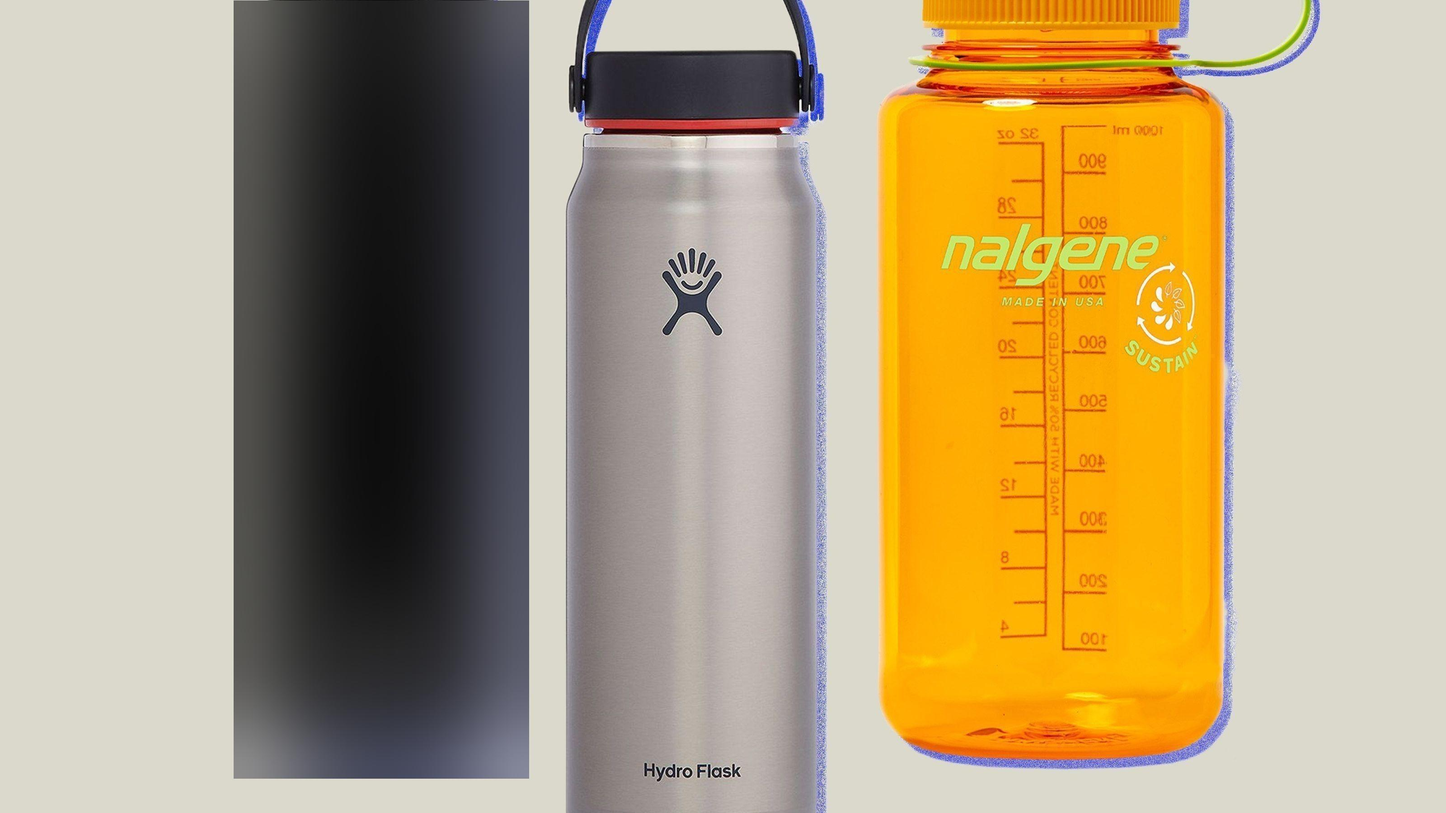gym bottle: (861, 0, 1238, 768), (550, 0, 838, 813)
